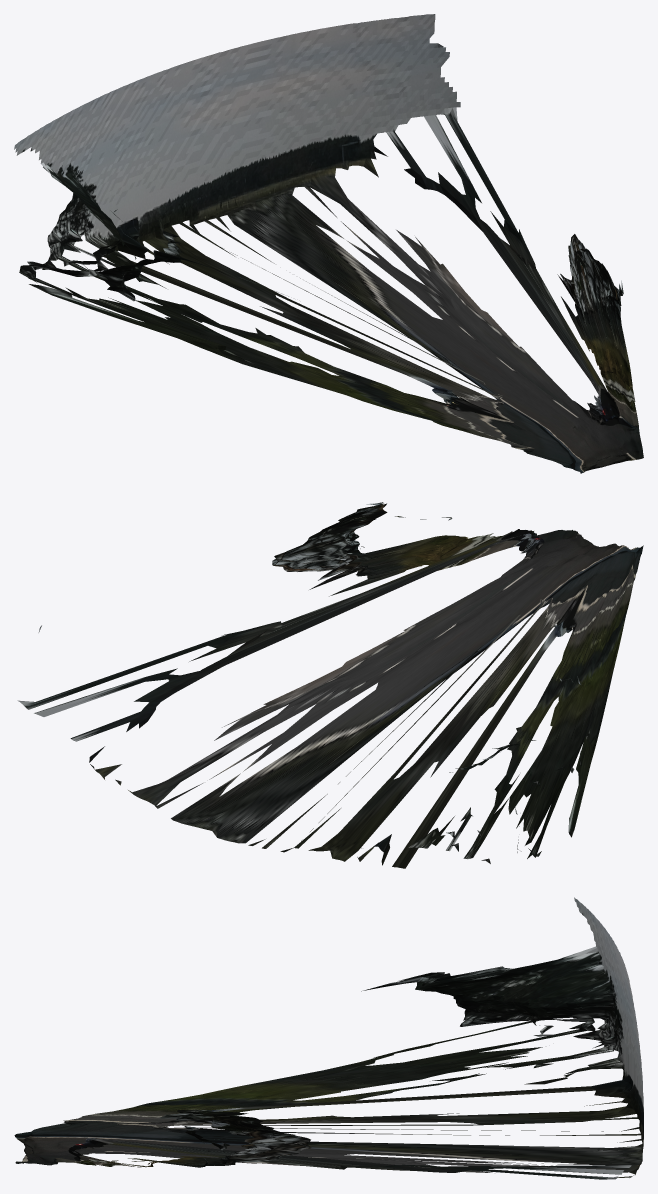
The picture shows the model from 3 angles, top to bottom: view 1: azimuth 30°, elevation 25°; view 2: azimuth 150°, elevation 25°; view 3: azimuth 270°, elevation 25°; orthographic projection. The views are drawn at different scales.
Visible parts, largest first — view 1: defaultobject; view 2: defaultobject; view 3: defaultobject.
Boxes of the visible parts, <box> form: defaultobject: <box>14,14,643,473</box>; defaultobject: <box>17,502,643,868</box>; defaultobject: <box>14,897,643,1179</box>.
Size of the model in its own units: 33.65 by 12.05 by 44.76.
Materials: 1 (1 with a texture image).
